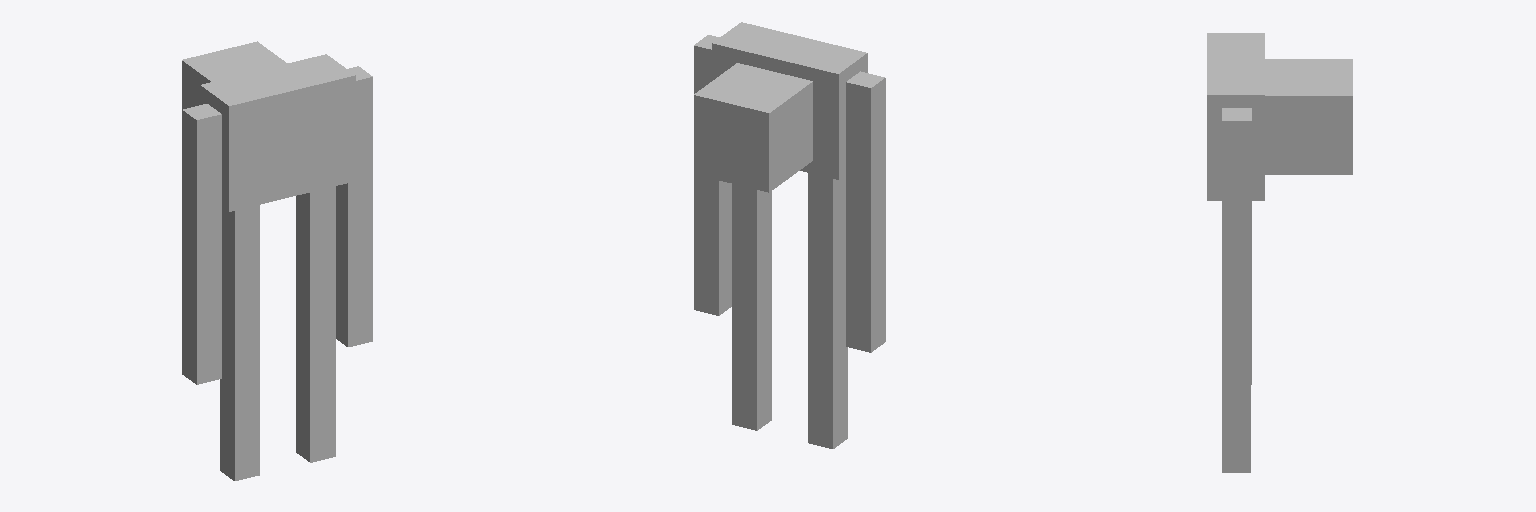
The model's file is ender_guardian_1.obj.
3 views of the same model, side by side, from view 1: azimuth 30°, elevation 25°; view 2: azimuth 150°, elevation 25°; view 3: azimuth 270°, elevation 25° (orthographic).
Parts seen in each view (by area): view 1: torso, right_arm, left_leg, right_leg, left_arm, head; view 2: head, right_arm, right_leg, left_leg, torso, left_arm; view 3: head, left_arm, torso, left_leg.
Boxes of the visible parts, box(x1,y1,x2,y2) form: torso: box(200, 54, 355, 211); right_arm: box(182, 104, 221, 384); left_leg: box(296, 186, 335, 462); right_leg: box(220, 205, 259, 480); left_arm: box(336, 66, 372, 346); head: box(182, 41, 287, 109); head: box(694, 63, 812, 192); right_arm: box(846, 71, 885, 352); right_leg: box(808, 173, 847, 448); left_leg: box(732, 184, 771, 430); torso: box(712, 22, 867, 179); left_arm: box(694, 35, 731, 315); head: box(1265, 59, 1352, 174); left_arm: box(1222, 108, 1251, 384); torso: box(1207, 33, 1264, 200); left_leg: box(1222, 385, 1250, 472).
Size of the model in its own units: 0.875 by 1.81 by 0.625.